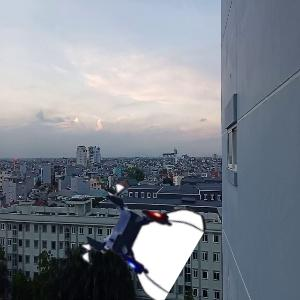drone: (85, 185, 194, 294)
